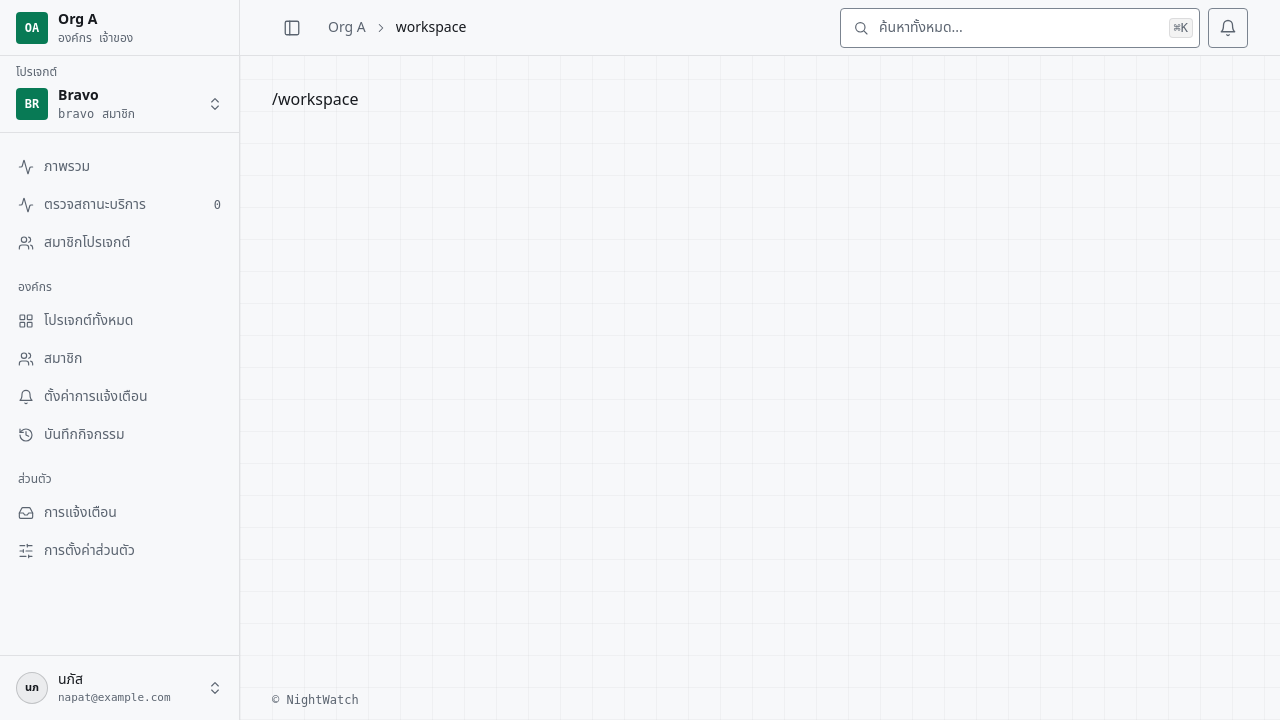
Test: ProjectSwitcher › AC-01: opens a menu with search and the joined and not-joined groups for an Owner
This screenshot has width=1280, height=720.
Click the button with test id "shell-project-switch". click: (120, 104)
box: x1=8 y1=84 x2=231 y2=124
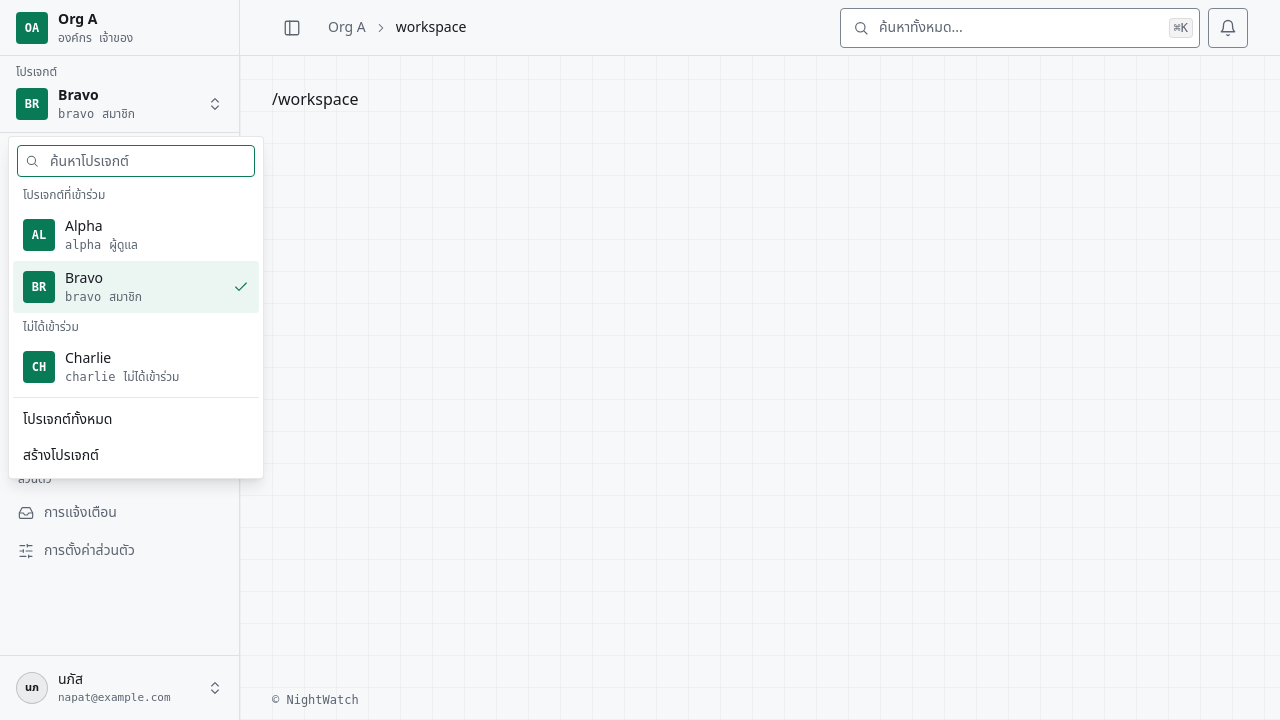
Now the menu item that starts with "Charlie" is shown, box x1=13 y1=341 x2=259 y2=393
